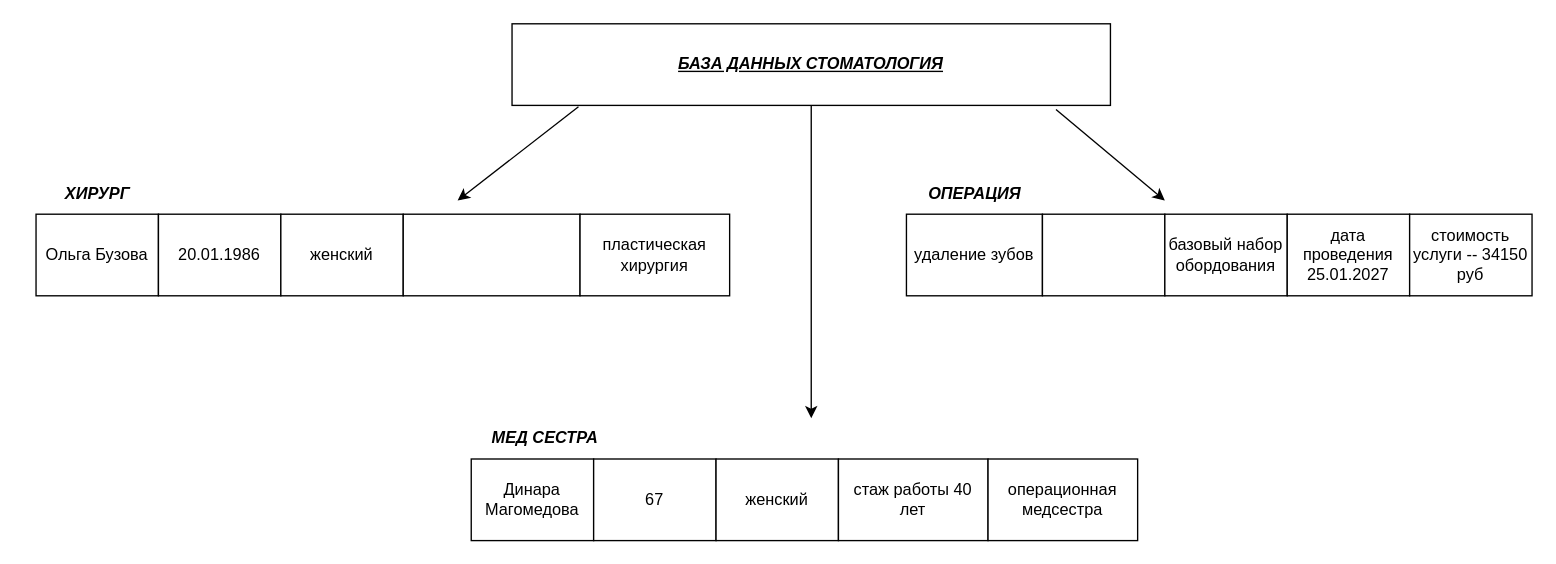
The diagram is 1556 pixels wide and 564 high, and some of its shapes have lost their labels. The shapes that lost their labels are listed below. From the top down, each one's box as (x1, y1, x2, y2) in pixels, then its label:
(402, 213, 580, 296): стаж работы 20 лет
(1041, 213, 1165, 296): категория сложности -- простая
